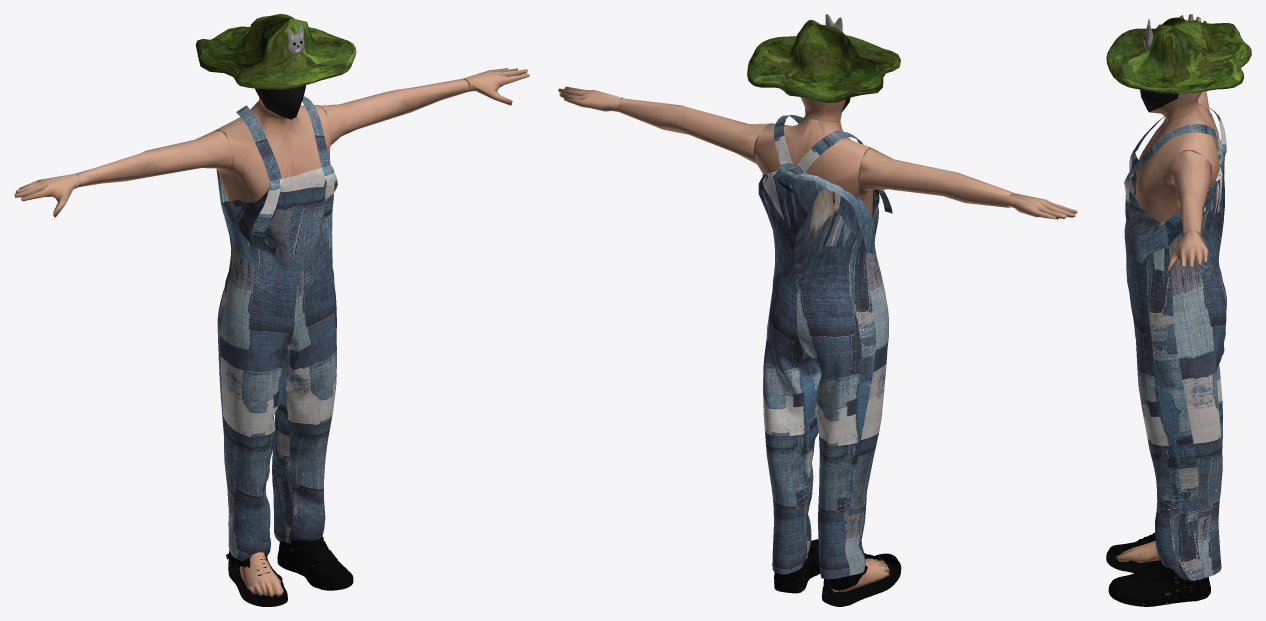
The model's file is machetetanom.glb.
3 renders of one model, left to right at view 1: azimuth 30°, elevation 25°; view 2: azimuth 150°, elevation 25°; view 3: azimuth 270°, elevation 25°, orthographic.
Visible parts, largest first — view 1: overall_FABRIC 1_FRONT_1699_0, Ch36, Sphere, Off_White_x_Nike_Air_Force_1_Low_Black_White_2_Black_lambert, Off_White_x_Nike_Air_Force_1_Low_Black_White_2_Black_lamber; view 2: overall_FABRIC 1_FRONT_1699_0, Ch36, Sphere, Off_White_x_Nike_Air_Force_1_Low_Black_White_2_Black_lamber, Off_White_x_Nike_Air_Force_1_Low_Black_White_2_Black_lambert; view 3: overall_FABRIC 1_FRONT_1699_0, Ch36, Sphere, Off_White_x_Nike_Air_Force_1_Low_Black_White_2_Black_lambert, Off_White_x_Nike_Air_Force_1_Low_Black_White_2_Black_lamber.
Part boxes in pixels (x1,y1,x2,y2): overall_FABRIC 1_FRONT_1699_0: (216,96,337,561); Ch36: (14,68,529,597); Sphere: (195,14,356,89); Off_White_x_Nike_Air_Force_1_Low_Black_White_2_Black_lambert: (277,534,353,590); Off_White_x_Nike_Air_Force_1_Low_Black_White_2_Black_lamber: (226,550,287,606); overall_FABRIC 1_FRONT_1699_0: (758,115,892,579); Ch36: (558,86,1077,591); Sphere: (747,20,900,102); Off_White_x_Nike_Air_Force_1_Low_Black_White_2_Black_lamber: (822,553,901,606); Off_White_x_Nike_Air_Force_1_Low_Black_White_2_Black_lambert: (772,539,820,593); overall_FABRIC 1_FRONT_1699_0: (1124,104,1226,580); Ch36: (1116,14,1219,562); Sphere: (1106,17,1251,93); Off_White_x_Nike_Air_Force_1_Low_Black_White_2_Black_lambert: (1108,560,1210,606); Off_White_x_Nike_Air_Force_1_Low_Black_White_2_Black_lamber: (1106,532,1159,572).
Bounding box in the file's own units: 1.79 × 1.87 × 0.4371.
Materials: 11 (5 with a texture image).
